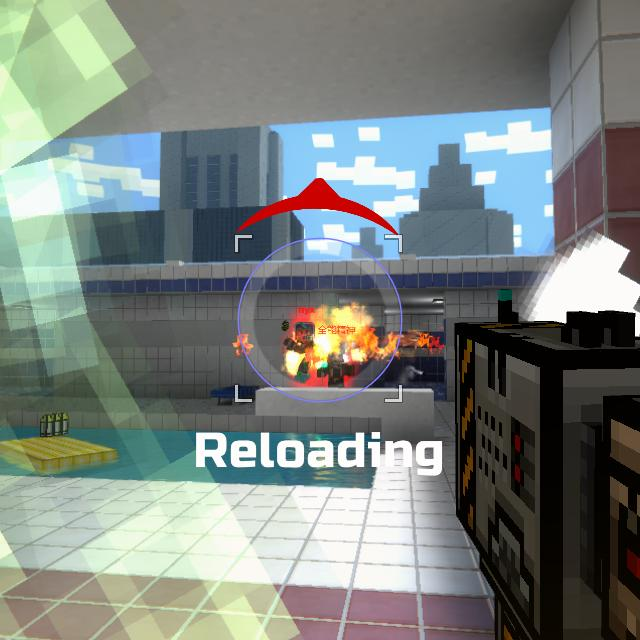Enemy: (282, 322, 315, 384), (317, 349, 355, 387)
